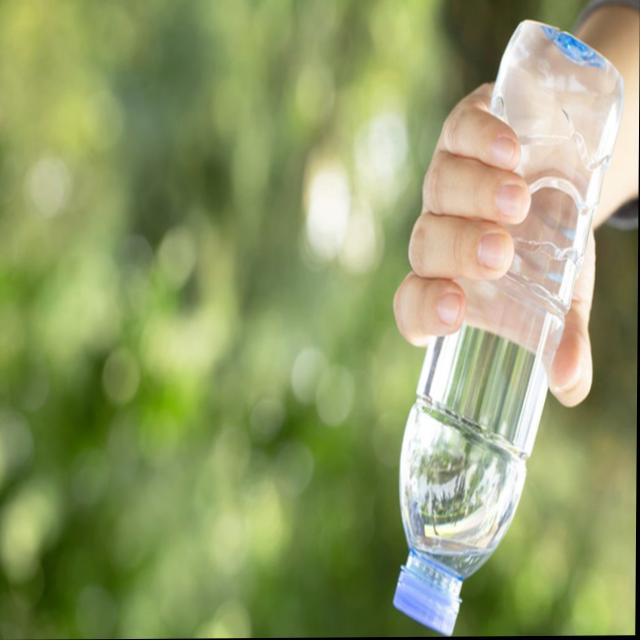bottle: (393, 16, 628, 638)
